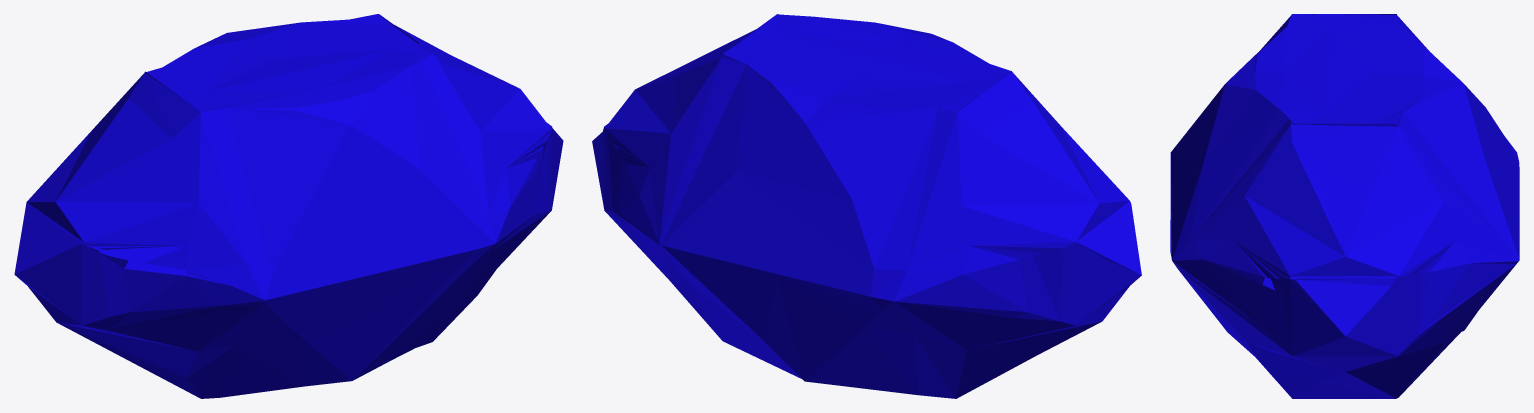
The model's file is meteor_blue_silence_crystal_04.glb.
3 renders of one model, left to right at view 1: azimuth 30°, elevation 25°; view 2: azimuth 150°, elevation 25°; view 3: azimuth 270°, elevation 25°, orthographic. The views are drawn at different scales.
Visible parts, largest first — view 1: Mesh1.015; view 2: Mesh1.015; view 3: Mesh1.015.
Boxes of the visible parts, x1=… form: Mesh1.015: x1=14, y1=14, x2=563, y2=398; Mesh1.015: x1=592, y1=14, x2=1141, y2=398; Mesh1.015: x1=1170, y1=14, x2=1519, y2=398.
Size of the model in its own units: 1.9 by 0.9617 by 1.09.
